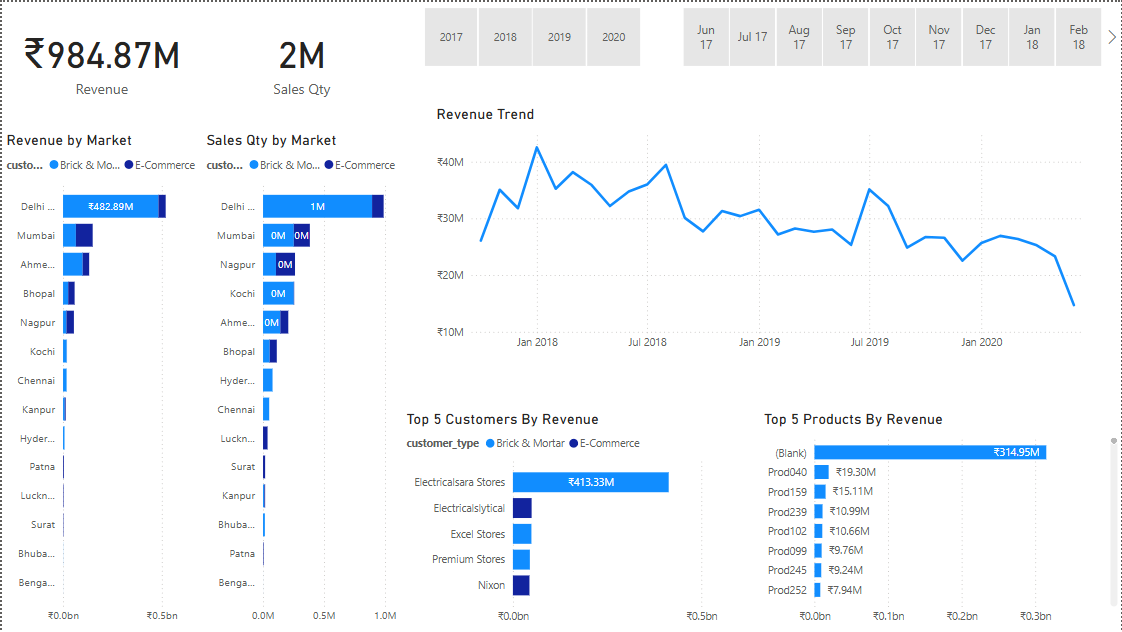

The dashboard page shown, as its layout file describes it:
{"tool":"powerbi","page":{"name":"Key Insights","canvas":[1280,720],"ordinal":0},"visuals":[{"type":"card","fields":{"Values":["BaseMeasures.Revenue"]},"box":[0,0,228.6,134.3],"z":0},{"type":"card","fields":{"Values":["BaseMeasures.Sales Qty"]},"box":[228.6,0,228.6,134.3],"z":1000},{"type":"barChart","title":"Revenue by Market","fields":{"Category":["sales markets.markets_name"],"Y":["BaseMeasures.Revenue"],"Series":["sales customers.customer_type"]},"box":[0,147.1,228.6,572.9],"z":2000},{"type":"slicer","fields":{"Values":["sales date.year"]},"box":[457.1,0,295.7,80],"z":3000},{"type":"slicer","fields":{"Values":["sales date.cy_date"]},"box":[752.9,0,527.1,80],"z":4000},{"type":"barChart","title":"Sales Qty by Market","fields":{"Category":["sales markets.markets_name"],"Y":["BaseMeasures.Sales Qty"],"Series":["sales customers.customer_type"]},"box":[228.6,147.1,228.6,572.9],"z":5000},{"type":"barChart","title":"Top 5 Customers By Revenue","fields":{"Category":["sales customers.custmer_name"],"Y":["BaseMeasures.Revenue"],"Series":["sales customers.customer_type"]},"box":[457.1,465.7,408.6,254.3],"z":6000},{"type":"clusteredBarChart","title":"Top 5 Products By Revenue","fields":{"Y":["BaseMeasures.Revenue"],"Category":["sales products.product_code"]},"box":[865.7,465.7,414.3,254.3],"z":7000},{"type":"lineChart","title":"Revenue Trend","fields":{"Y":["BaseMeasures.Revenue"],"Category":["sales date.cy_date"]},"box":[491.4,117.1,762.9,290],"z":8000}]}

Visuals, with their boxes in screenshot pixels (x1, y1, x2, y2), scaled from the page's 1280x720 canvas onto the 1122x632 screenshot:
card - BaseMeasures.Revenue: x1=0, y1=0, x2=200, y2=118
card - BaseMeasures.Sales Qty: x1=200, y1=0, x2=401, y2=118
"Revenue by Market" barChart: x1=0, y1=129, x2=200, y2=631
slicer - sales date.year: x1=401, y1=0, x2=660, y2=70
slicer - sales date.cy_date: x1=660, y1=0, x2=1121, y2=70
"Sales Qty by Market" barChart: x1=200, y1=129, x2=401, y2=631
"Top 5 Customers By Revenue" barChart: x1=401, y1=409, x2=759, y2=631
"Top 5 Products By Revenue" clusteredBarChart: x1=759, y1=409, x2=1121, y2=631
"Revenue Trend" lineChart: x1=431, y1=103, x2=1099, y2=357
